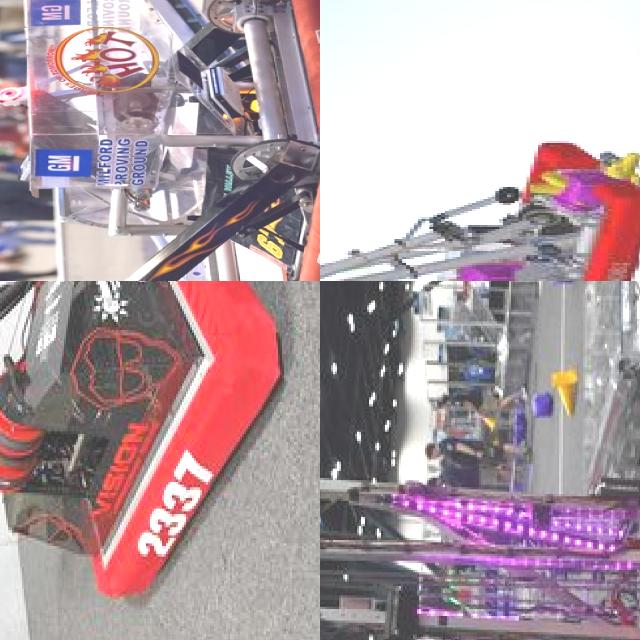FRC-Robots: (0, 281, 296, 634), (320, 314, 640, 640), (0, 0, 320, 281), (320, 126, 640, 281)
